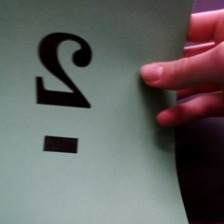green2: (29, 24, 101, 161)
